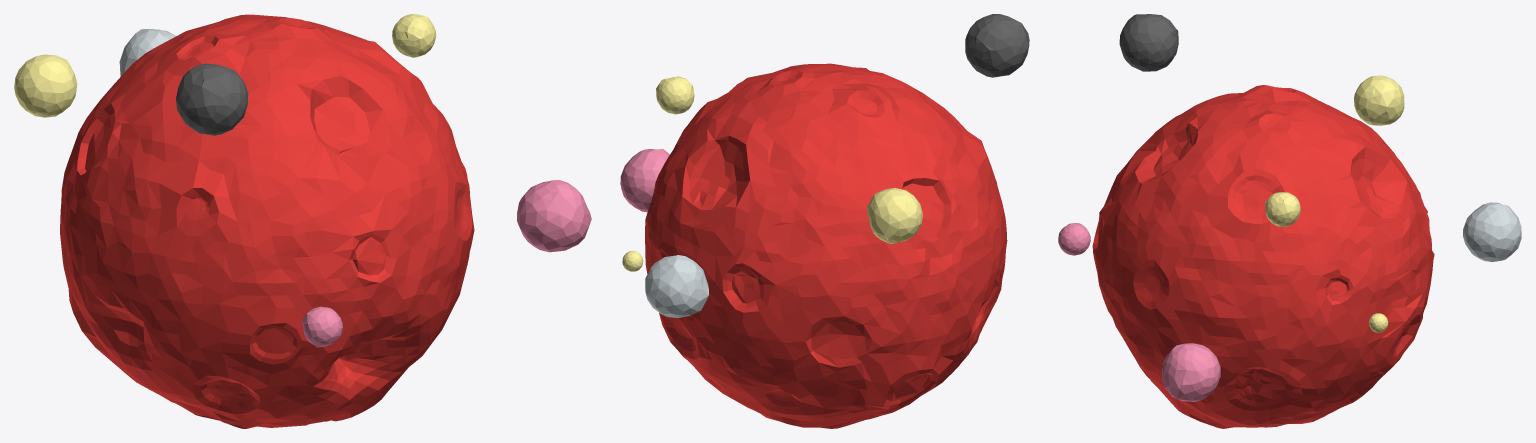
The model's file is Planet_49.glb.
3 views of the same model, side by side, from view 1: azimuth 30°, elevation 25°; view 2: azimuth 150°, elevation 25°; view 3: azimuth 270°, elevation 25° (orthographic). The views are drawn at different scales.
Parts seen in each view (by area): view 1: Planet_49; view 2: Planet_49; view 3: Planet_49.
Boxes of the visible parts, x1,y1,x2,y2 form: Planet_49: (14,14,591,428); Planet_49: (620,14,1029,428); Planet_49: (1058,14,1521,428).
Bounding box in the file's own units: 25.43 × 23 × 27.67.
1 material, 1 textured.
